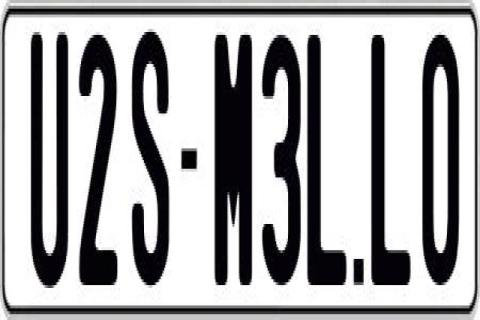0: (261, 26, 303, 291), (78, 32, 118, 285), (419, 29, 455, 297)
L: (304, 29, 350, 294), (372, 32, 410, 300)
M: (214, 29, 257, 282)
S: (130, 32, 170, 302)
U: (30, 32, 68, 294)
